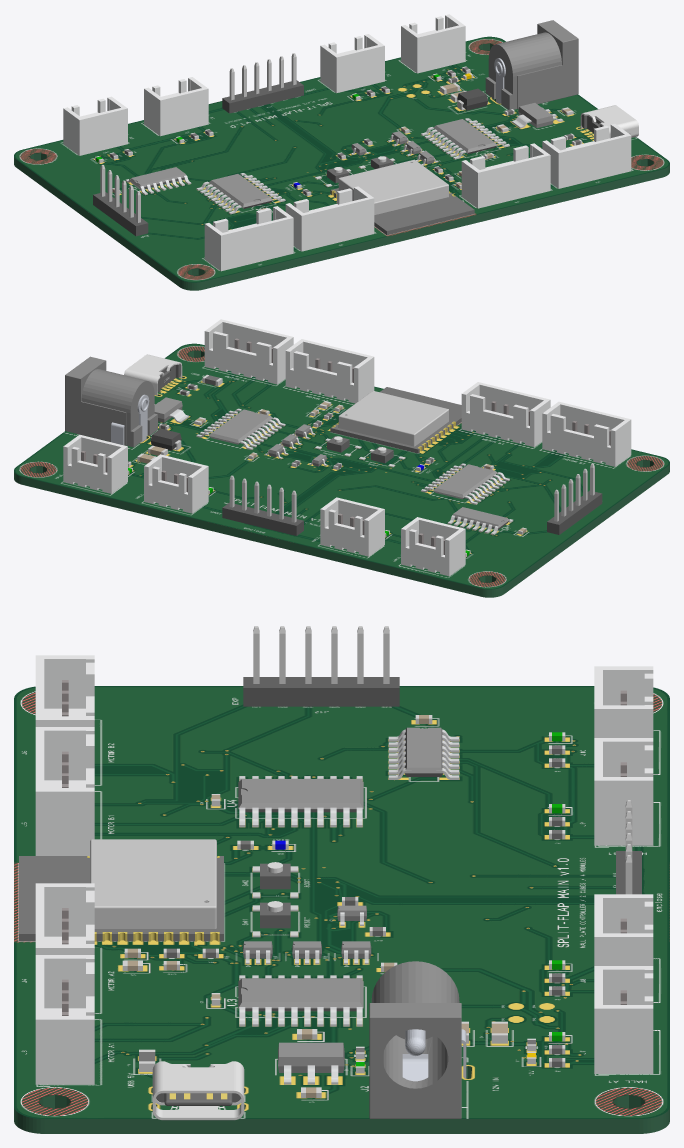
File: plate.glb
The picture shows the model from 3 angles, top to bottom: view 1: azimuth 30°, elevation 25°; view 2: azimuth 150°, elevation 25°; view 3: azimuth 270°, elevation 25°; orthographic projection. The views are drawn at different scales.
Parts seen in each view (by area): view 1: Box0, J2, U1, J6, J4, J3, J5, J10, J8, J9, J7, J11 (+7 smaller); view 2: Box0, J2, U1, J6, J4, J5, J3, J7, J10, J9, J8, J11 (+7 smaller); view 3: Box0, U1, J2, J3, J5, J12, J7, J9, U3, U4, J1, J4 (+8 smaller).
Boxes of the visible parts, left/top/right/bottom form: Box0: left=14, top=36, right=669, bottom=290; J2: left=485, top=20, right=578, bottom=109; U1: left=330, top=159, right=474, bottom=235; J6: left=204, top=206, right=293, bottom=271; J4: left=461, top=143, right=550, bottom=208; J3: left=542, top=123, right=631, bottom=188; J5: left=285, top=186, right=374, bottom=251; J10: left=63, top=96, right=127, bottom=155; J8: left=320, top=34, right=384, bottom=93; J9: left=144, top=77, right=208, bottom=136; J7: left=401, top=14, right=465, bottom=73; J11: left=222, top=53, right=303, bottom=113; Box0: left=14, top=343, right=669, bottom=597; J2: left=65, top=356, right=157, bottom=447; U1: left=330, top=387, right=461, bottom=453; J6: left=542, top=401, right=631, bottom=466; J4: left=285, top=339, right=374, bottom=403; J5: left=461, top=382, right=550, bottom=447; J3: left=204, top=319, right=293, bottom=384; J7: left=63, top=434, right=127, bottom=493; J10: left=401, top=517, right=465, bottom=576; J9: left=320, top=497, right=384, bottom=556; J8: left=144, top=454, right=208, bottom=513; J11: left=222, top=475, right=303, bottom=535; Box0: left=14, top=686, right=669, bottom=1133; U1: left=19, top=839, right=223, bottom=941; J2: left=369, top=961, right=466, bottom=1118; J3: left=35, top=955, right=94, bottom=1084; J5: left=35, top=727, right=94, bottom=856; J12: left=243, top=626, right=399, bottom=706; J7: left=594, top=966, right=653, bottom=1073; J9: left=594, top=738, right=653, bottom=845; U3: left=238, top=975, right=363, bottom=1026; U4: left=238, top=776, right=363, bottom=827; J1: left=152, top=1061, right=244, bottom=1120; J4: left=35, top=883, right=94, bottom=954.
Size of the model in its own units: 100 by 14.8 by 64.
29 materials, 2 textured.
